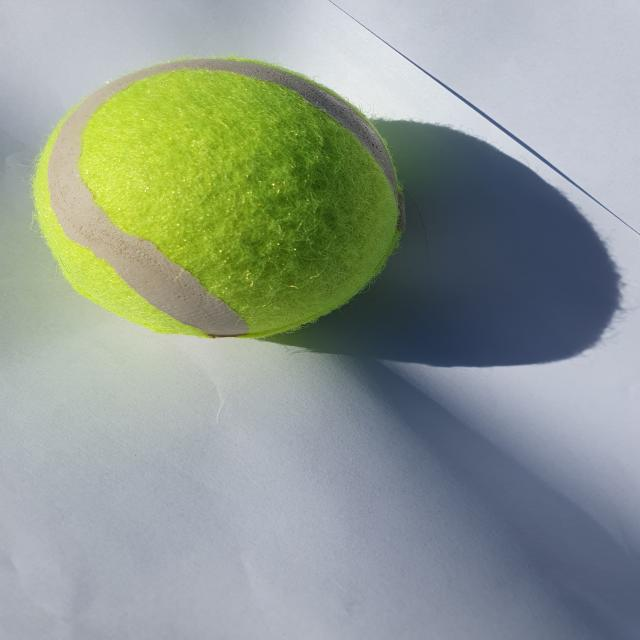green: (33, 57, 404, 339)
